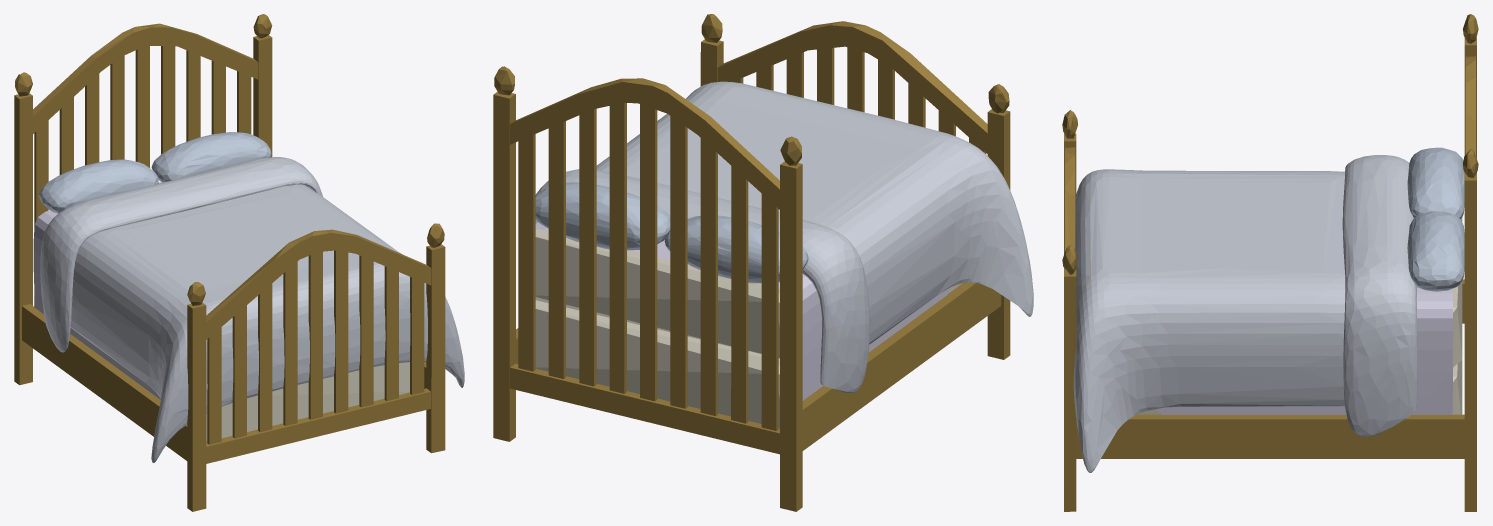
File: sh-bs0-bed2.glb
The picture shows the model from 3 angles, left to right: view 1: azimuth 30°, elevation 25°; view 2: azimuth 150°, elevation 25°; view 3: azimuth 270°, elevation 25°; orthographic projection. The views are drawn at different scales.
Parts seen in each view (by area): view 1: Cube, Plane, Cube.011_Cube.012, Cube.005_Cube.008, Plane.001; view 2: Cube, Plane, Cube.005_Cube.008, Cube.011_Cube.012, Plane.001; view 3: Plane, Cube, Cube.011_Cube.012, Plane.001, Cube.005_Cube.008.
Boxes of the visible parts, x1,y1,x2,y2 form: Cube: [14, 14, 445, 511]; Plane: [40, 157, 464, 462]; Cube.011_Cube.012: [39, 132, 271, 213]; Cube.005_Cube.008: [206, 362, 409, 441]; Plane.001: [33, 182, 161, 399]; Cube: [493, 14, 1010, 511]; Plane: [535, 81, 1033, 393]; Cube.005_Cube.008: [535, 229, 961, 428]; Cube.011_Cube.012: [535, 182, 808, 283]; Plane.001: [535, 220, 950, 400]; Plane: [1073, 155, 1417, 472]; Cube: [1062, 14, 1478, 511]; Cube.011_Cube.012: [1407, 147, 1464, 291]; Plane.001: [1156, 287, 1452, 414]; Cube.005_Cube.008: [1137, 217, 1462, 414].
Bounding box in the file's own units: 0.9989 × 0.9989 × 1.
